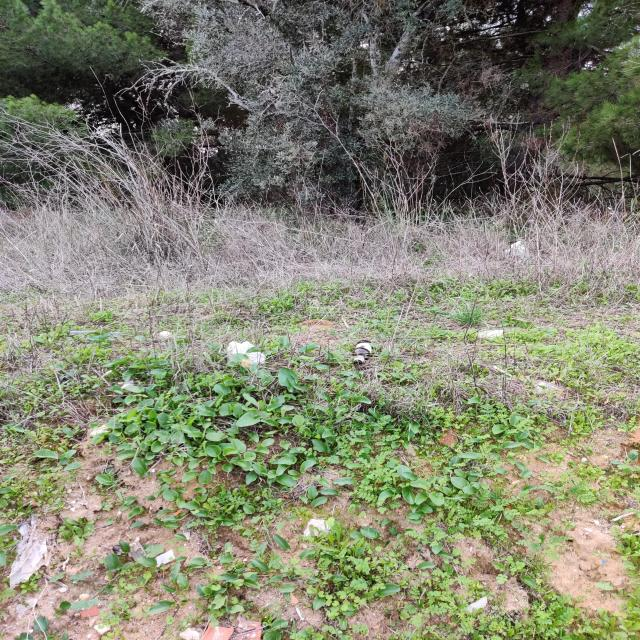litter: (352, 339, 374, 361)
